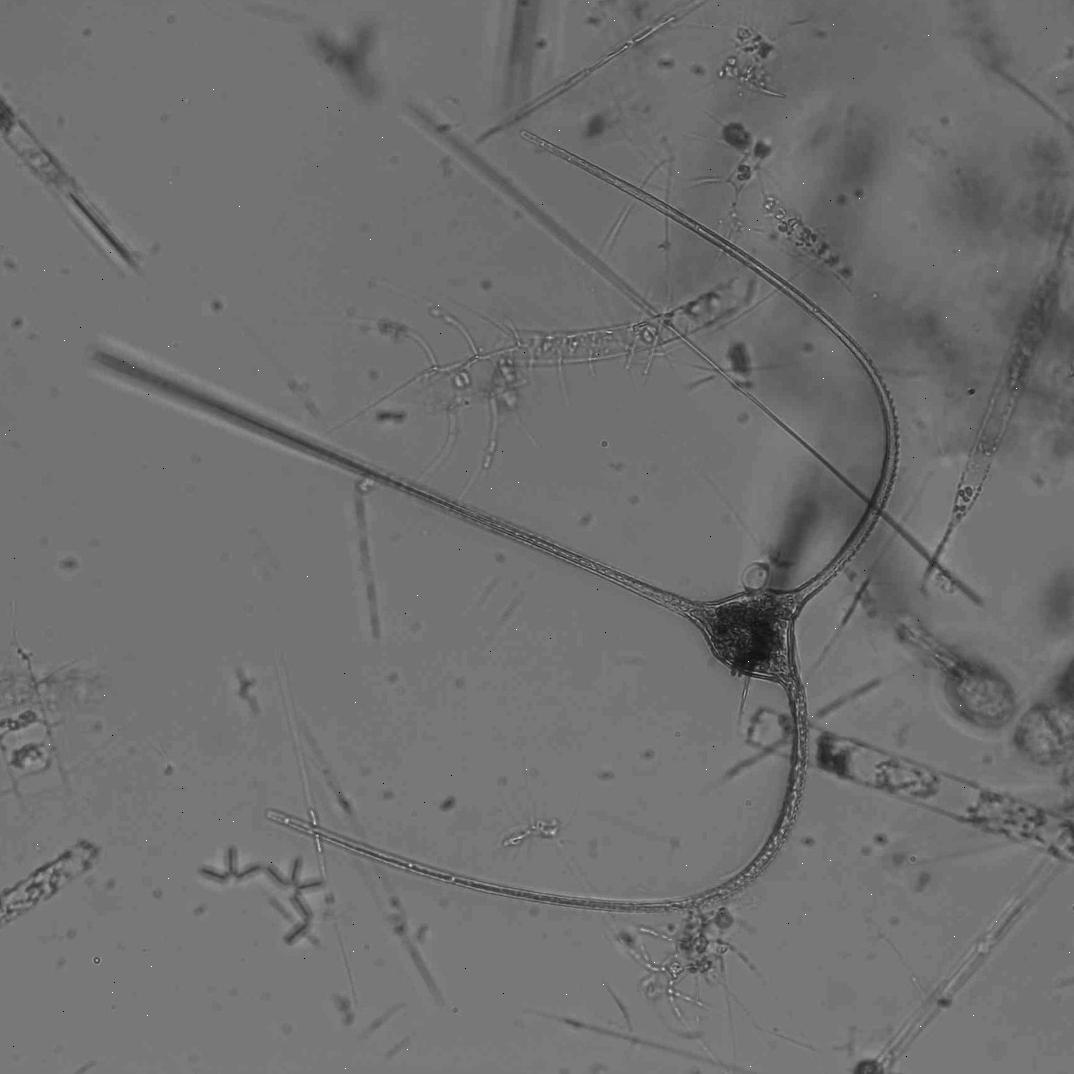ceratium_trichorecos: (96, 130, 900, 916)
